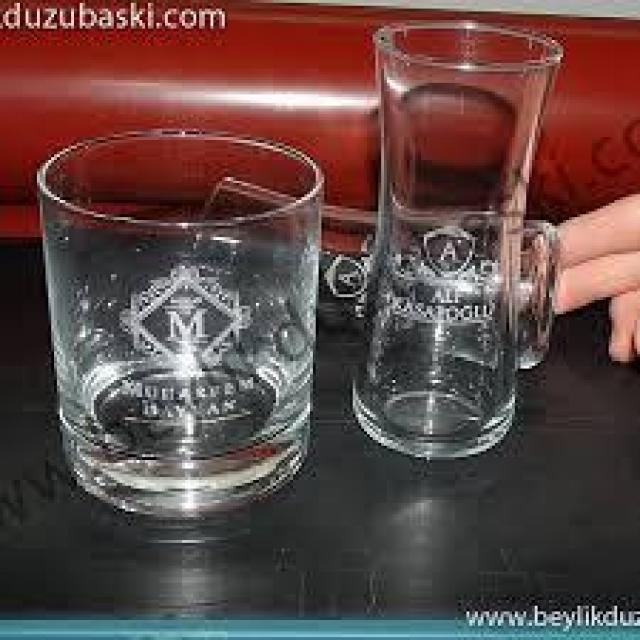non-organic waste: (34, 128, 327, 523), (346, 17, 564, 466)
